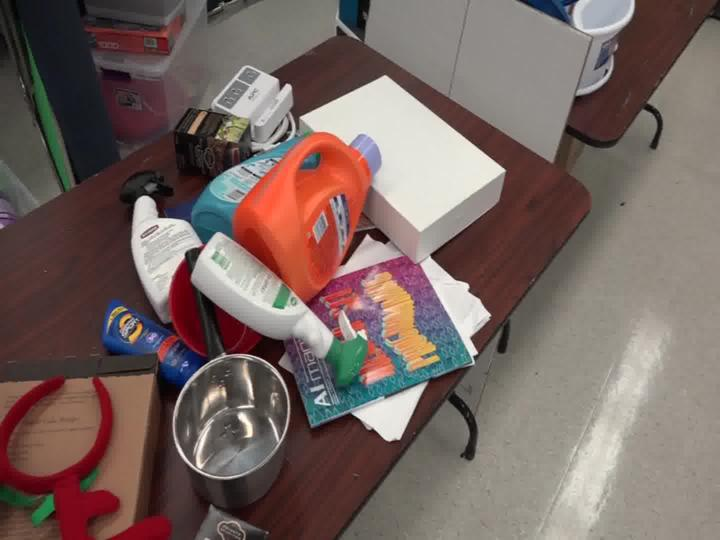tide: (209, 123, 392, 315)
